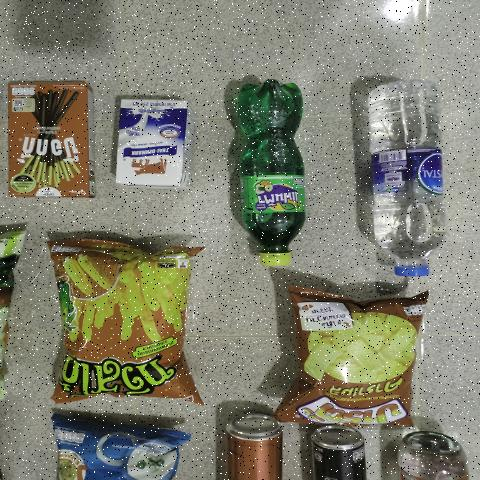crystal: (365, 82, 441, 277)
fanta_green: (222, 68, 317, 269)
party_red: (296, 294, 403, 425)
pokki: (1, 78, 99, 197)
thai_denmark: (109, 95, 189, 192)
twisco: (71, 241, 183, 395)
